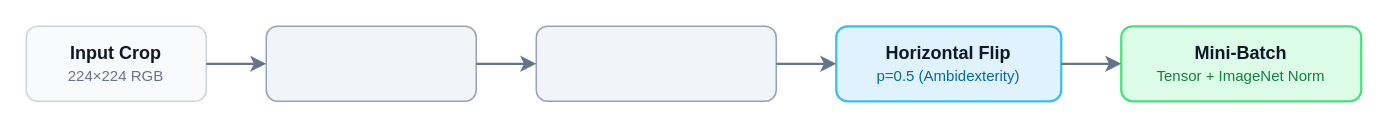
Some shapes in this 1389 by 129 pixel diagram are drawn without their labels. The box of each missing label's shape, as (x1, y1, x2, y2) in pixels:
Color Jitter KeepPadJitter (0.25): (265, 25, 476, 101)
Random Affine ±12°, tr=6%, sc=0.75-1.35: (535, 25, 776, 101)
